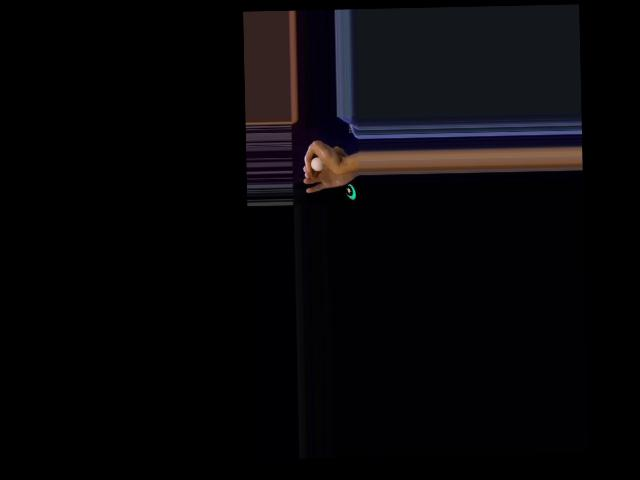egg: (310, 156, 322, 171)
